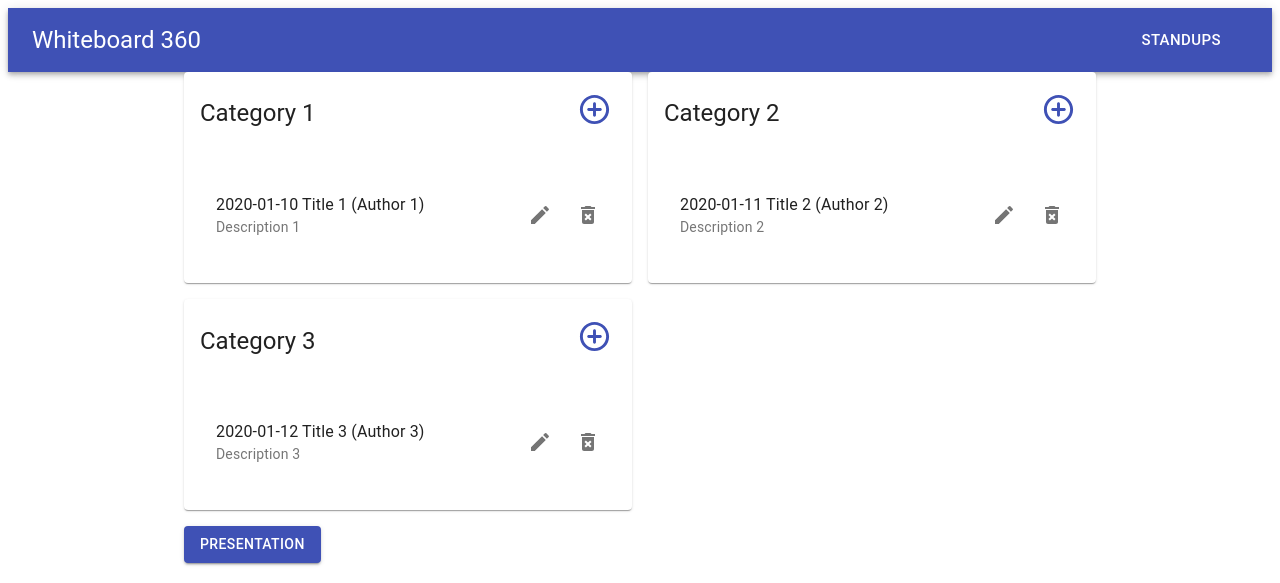
Test case: StandupPage › should switch to presentation mode when the presentation button is clicked
Click the button "Presentation" at (252, 544), box x1=184 y1=526 x2=321 y2=562
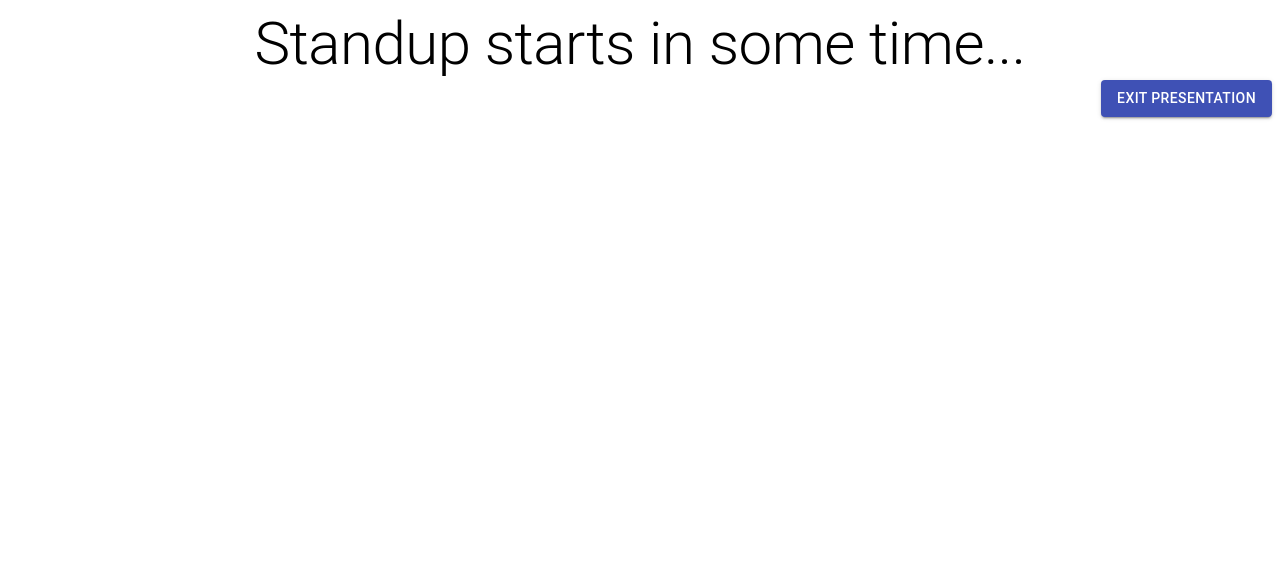
Expected: the heading "Whiteboard 360" is gone
Expected: the button "Exit Presentation" is shown, x1=1101 y1=80 x2=1272 y2=116
